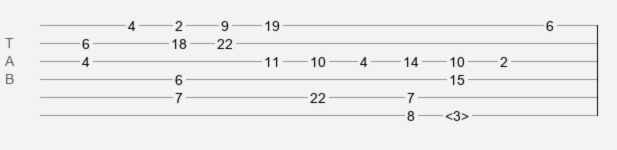10: (310, 54, 326, 64), (449, 54, 465, 64)
11: (264, 54, 280, 64)
14: (403, 54, 419, 64)
15: (449, 72, 465, 82)
18: (171, 36, 187, 46)
19: (264, 18, 280, 28)
2: (175, 18, 183, 28), (500, 54, 508, 64)
22: (217, 36, 233, 46), (310, 90, 326, 100)
4: (82, 54, 90, 64), (128, 18, 136, 28), (360, 54, 368, 64)
6: (82, 36, 90, 46), (175, 72, 183, 82), (546, 18, 554, 28)
7: (175, 90, 183, 100), (407, 90, 415, 100)
8: (407, 108, 415, 118)
9: (221, 18, 229, 28)
harmonic: (445, 108, 469, 118)
